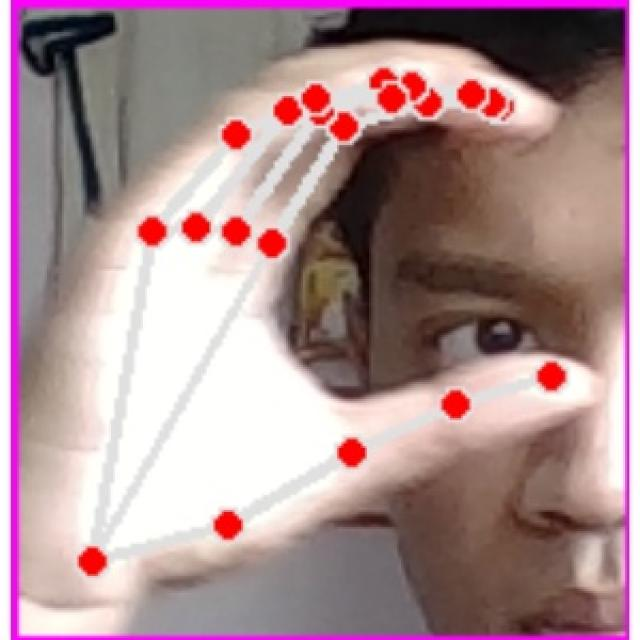C: (26, 22, 601, 600)
